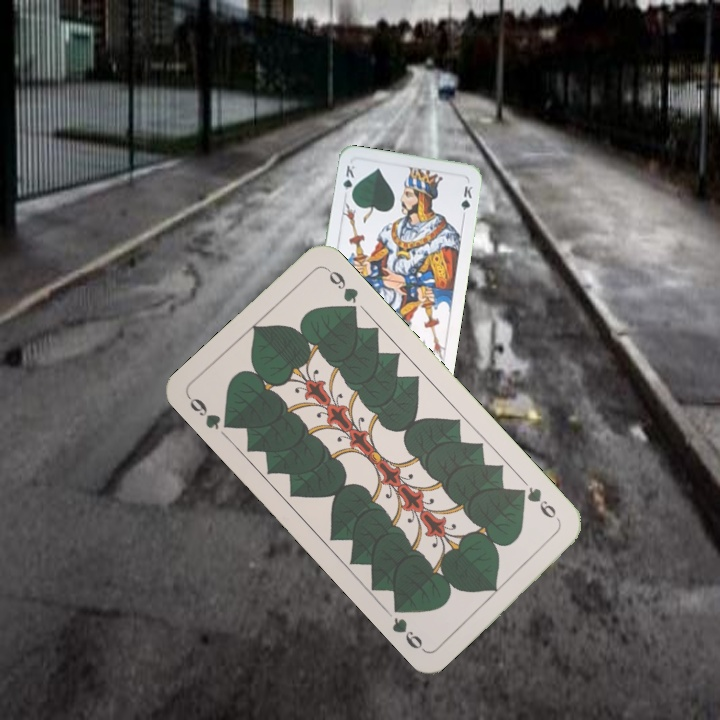G9: (513, 482, 564, 526), (184, 393, 237, 433)
GK: (339, 161, 357, 201)
